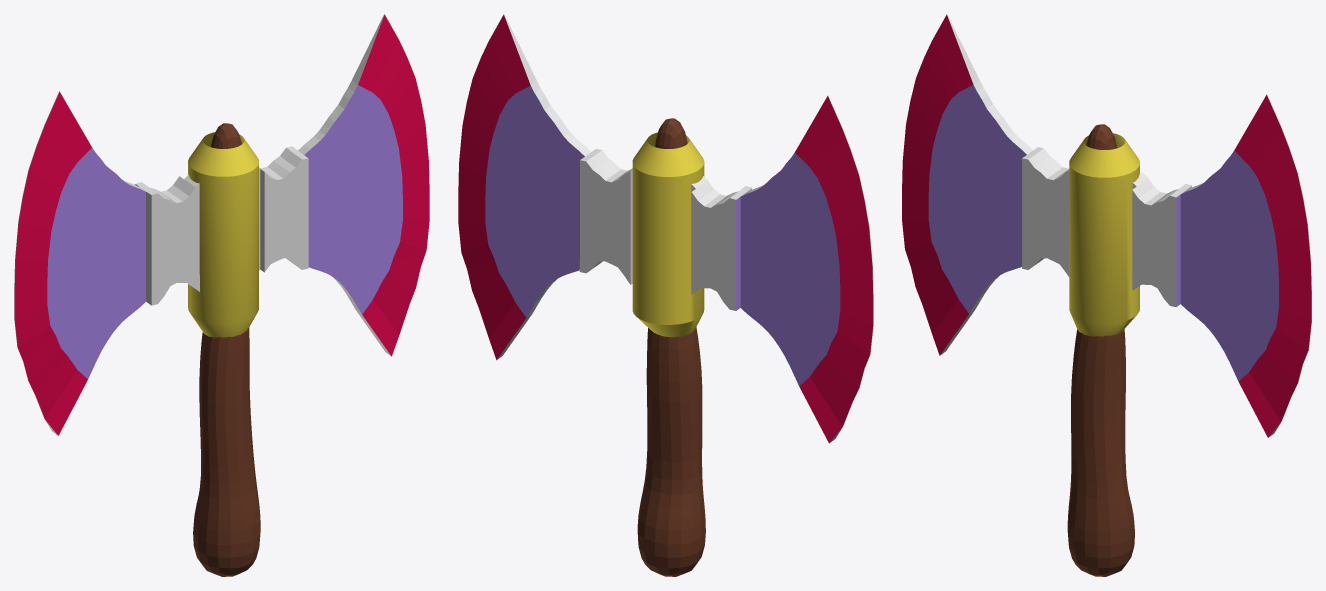
File: axe.fbx
3 views of the same model, side by side, from view 1: azimuth 30°, elevation 25°; view 2: azimuth 150°, elevation 25°; view 3: azimuth 330°, elevation 25° (orthographic).
Parts seen in each view (by area): view 1: Plane.001, Plane, Cube, Circle; view 2: Plane.001, Plane, Cube, Circle; view 3: Plane, Plane.001, Cube, Circle.
Part boxes in pixels (bbox=[...]): Plane.001: bbox=[14, 91, 199, 435]; Plane: bbox=[259, 14, 429, 356]; Cube: bbox=[193, 123, 260, 576]; Circle: bbox=[188, 132, 258, 337]; Plane.001: bbox=[691, 95, 873, 443]; Plane: bbox=[458, 14, 632, 360]; Cube: bbox=[637, 118, 705, 576]; Circle: bbox=[632, 132, 704, 337]; Plane: bbox=[1132, 94, 1311, 437]; Plane.001: bbox=[902, 14, 1069, 355]; Cube: bbox=[1067, 124, 1134, 576]; Circle: bbox=[1069, 133, 1139, 336].
Bounding box in the file's own units: 20.12 × 3.19 × 24.1.
